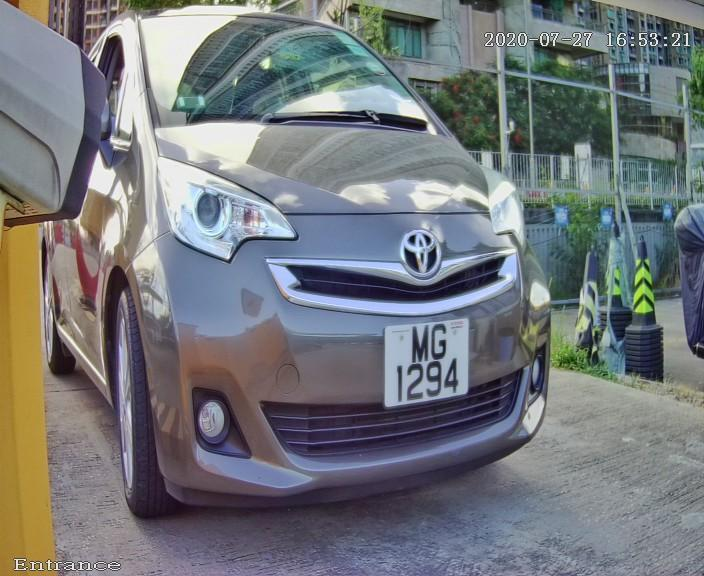privatecar: (45, 13, 601, 538)
